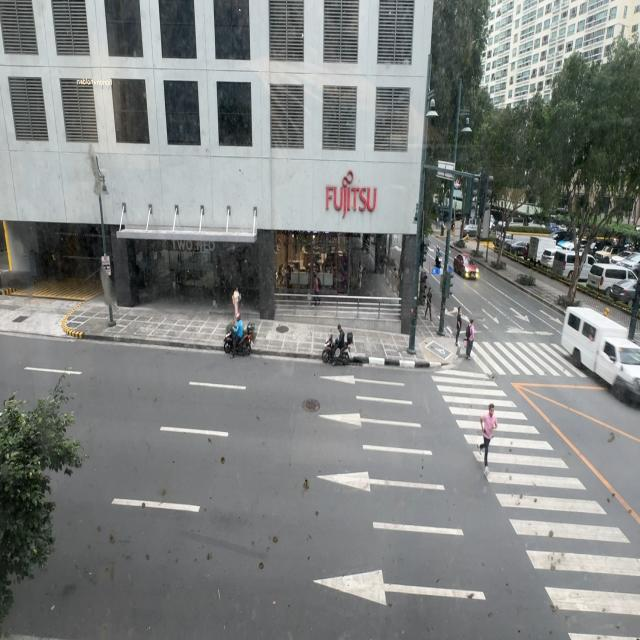crossing: (480, 402, 498, 471)
pedestrain: (424, 286, 433, 322), (232, 286, 241, 322)
waiting: (465, 318, 474, 360), (456, 306, 462, 348)
